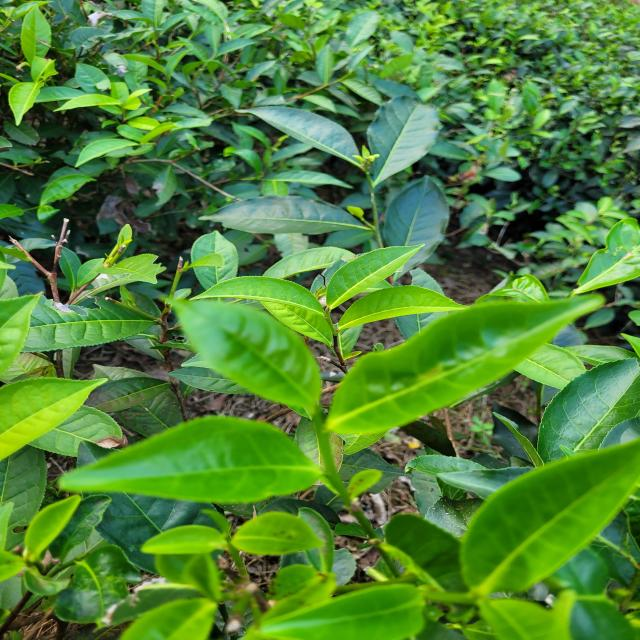Catagory A(1-2 days): (154, 282, 343, 420)
